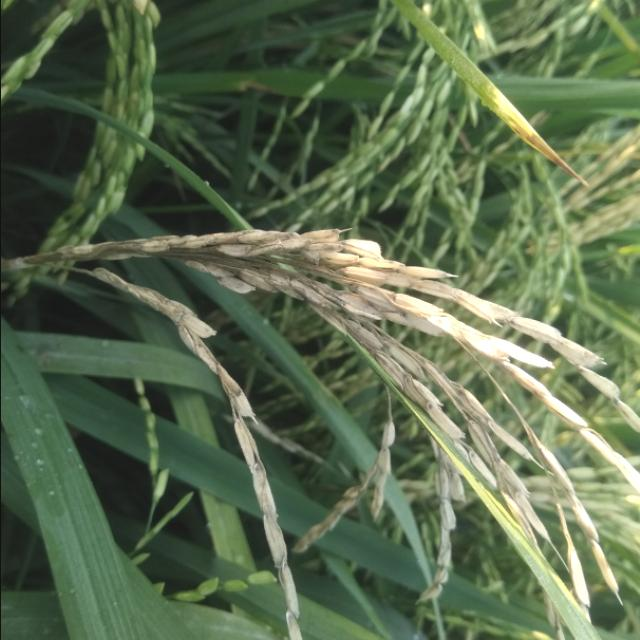Brown spot: (480, 80, 590, 189)
